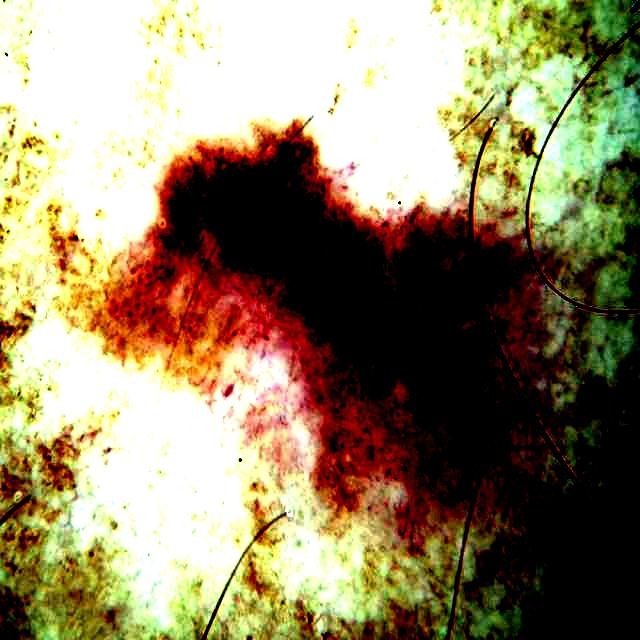MEL: (132, 121, 519, 554)
